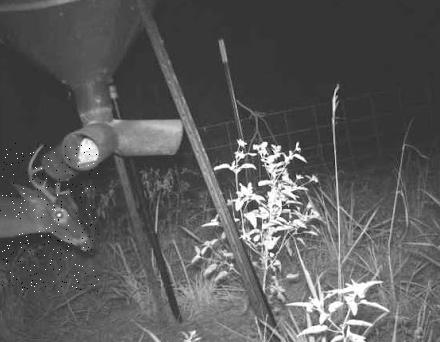Deer: (0, 142, 100, 292)
